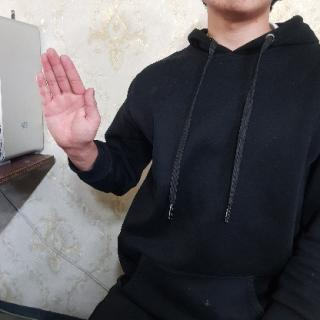SEEN: (30, 42, 105, 158)
